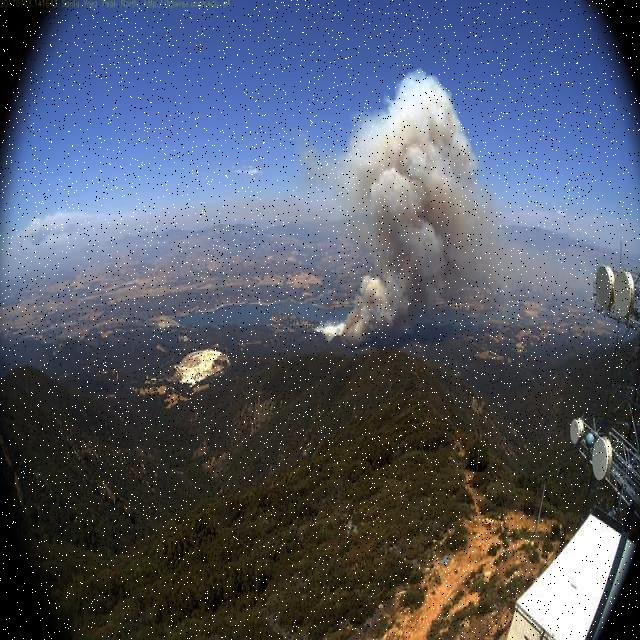smoke: (343, 70, 503, 353)
